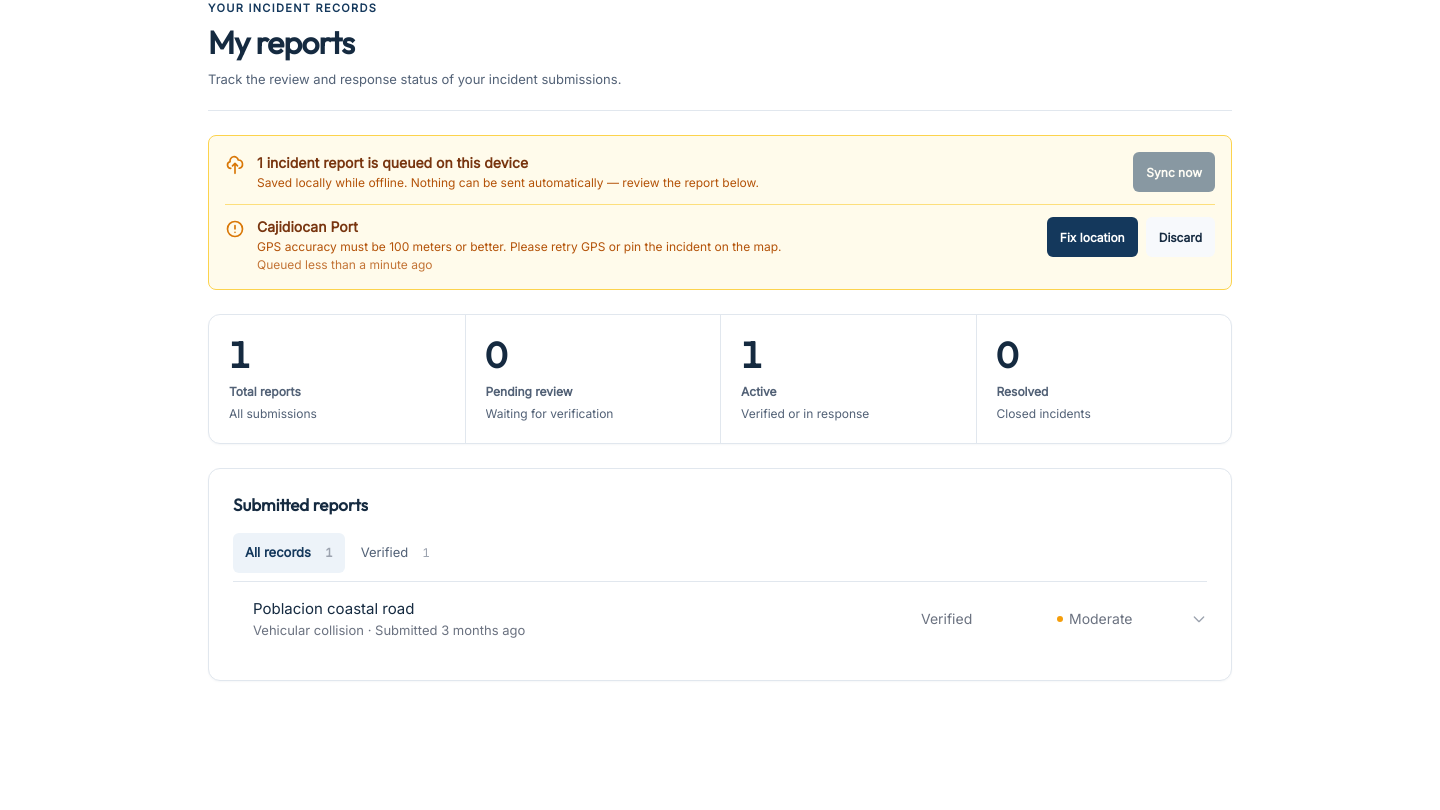
Scenario: reporter situation update flow › opens the location correction for a GPS-accuracy block
Click the button with aria-label "Fix location: Cajidiocan Port" at (1092, 237), box left=1047, top=217, right=1138, bottom=257
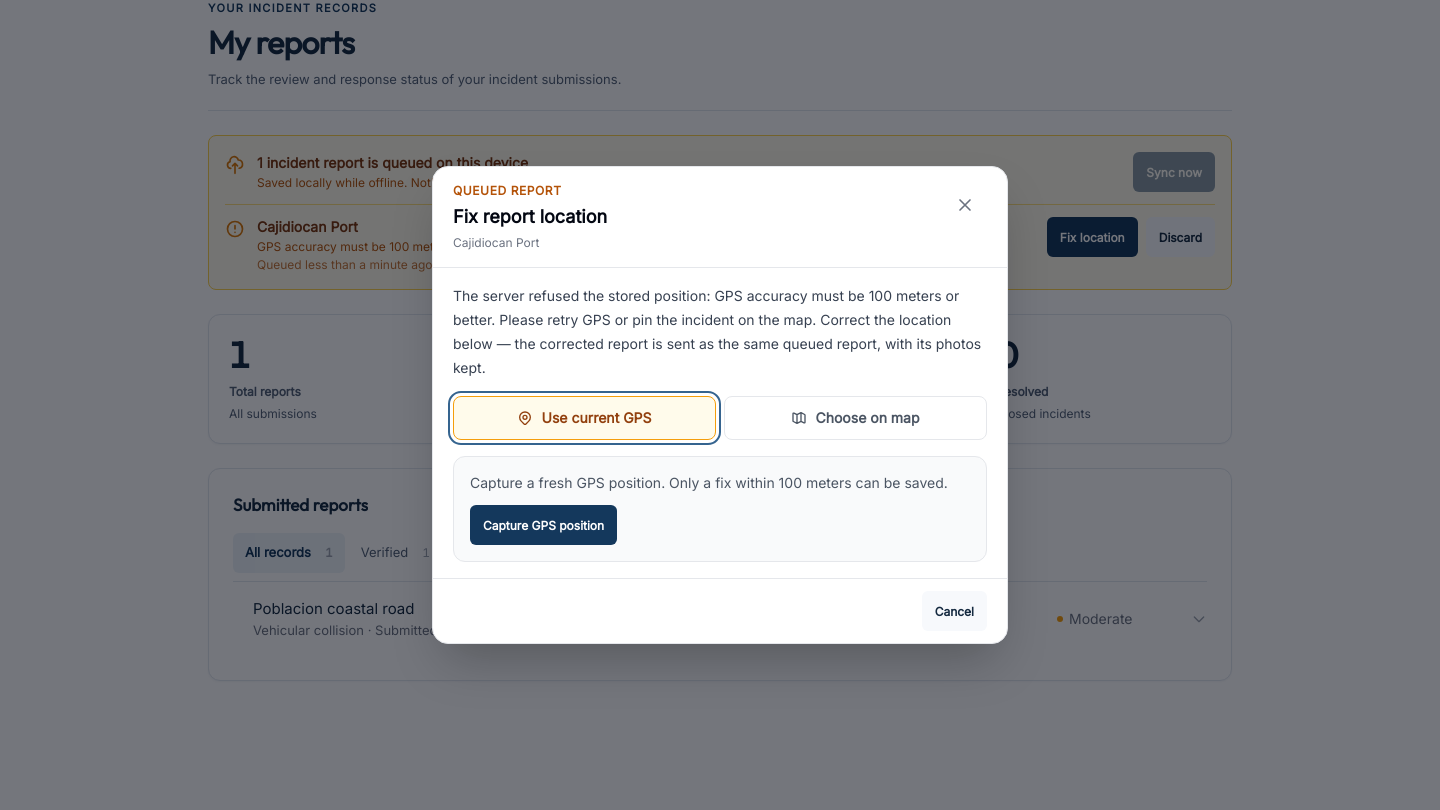
Check: the text "GPS accuracy must be 100 meters or better" is shown, box left=453, top=287, right=959, bottom=328
Check: the button "Capture GPS position" is shown, box left=470, top=505, right=617, bottom=545
